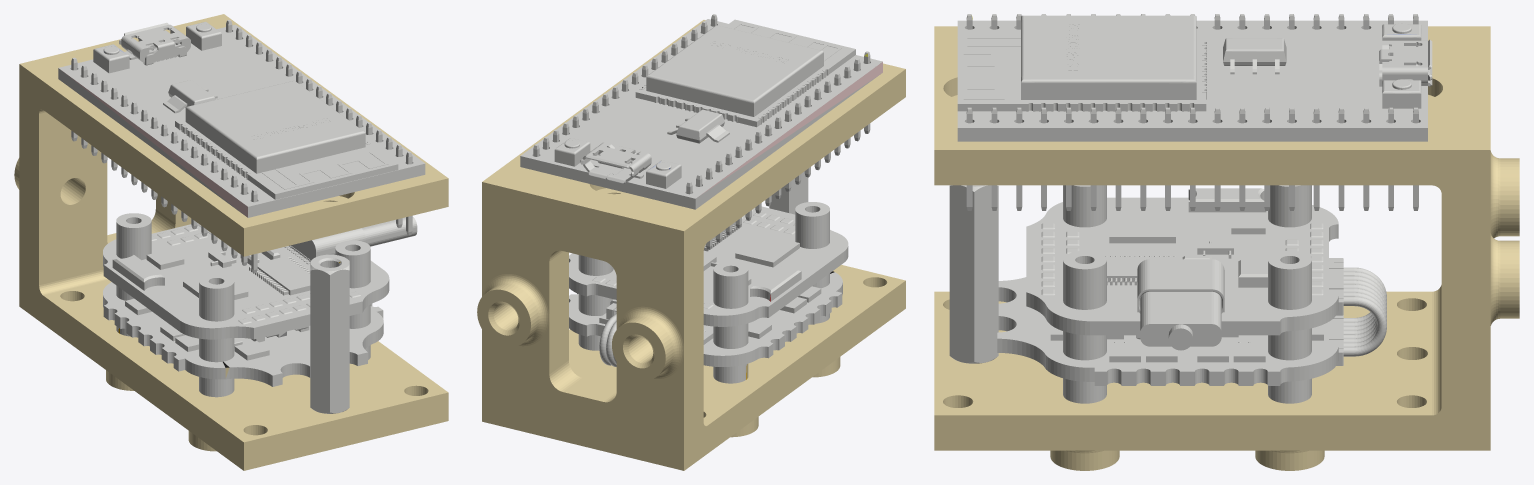
The model's file is electronics-mount-v1.glb.
The picture shows the model from 3 angles, left to right: view 1: azimuth 30°, elevation 25°; view 2: azimuth 150°, elevation 25°; view 3: azimuth 270°, elevation 25°; orthographic projection. The views are drawn at different scales.
Visible parts, largest first — view 1: Node1; view 2: Node1; view 3: Node1.
Part boxes in pixels (x1,y1,x2,y2): Node1: [14, 14, 448, 470]; Node1: [477, 14, 905, 470]; Node1: [934, 14, 1519, 470].
Size of the model in its own units: 38.69 by 41.59 by 60.
